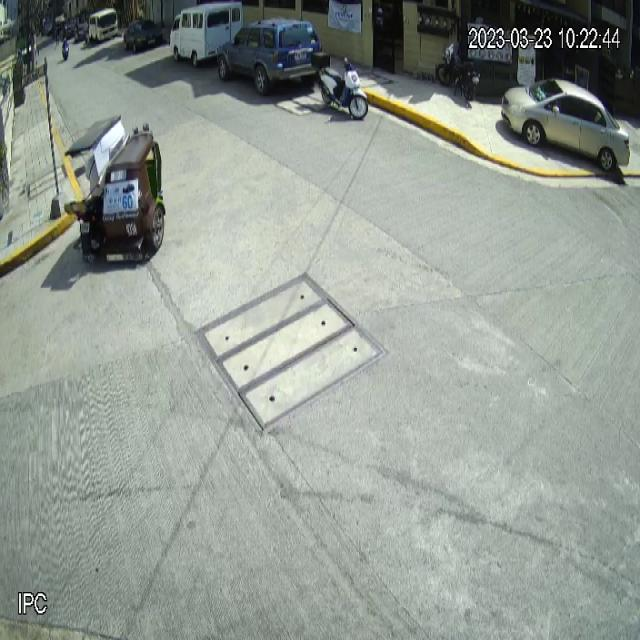Car: (501, 77, 632, 172), (216, 18, 322, 96)
Motorcycle: (311, 51, 370, 120)
Tricycle: (64, 112, 166, 266)
Van: (170, 1, 244, 70)
